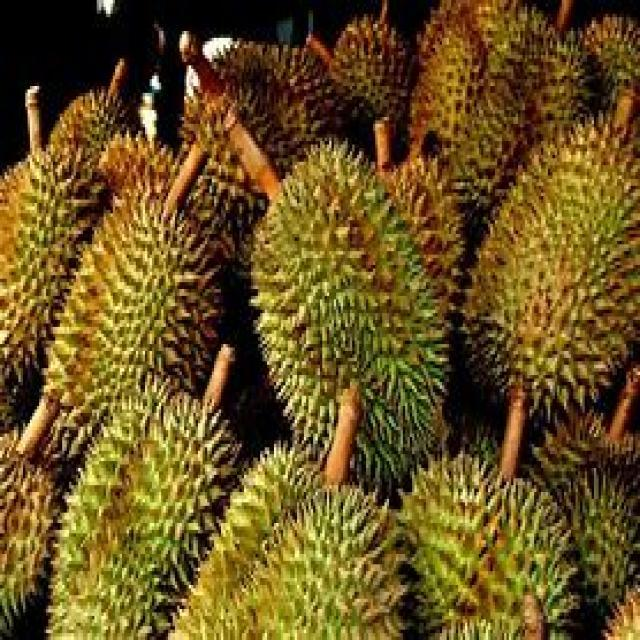mature: (252, 142, 444, 489), (464, 121, 640, 408), (48, 189, 222, 457)
